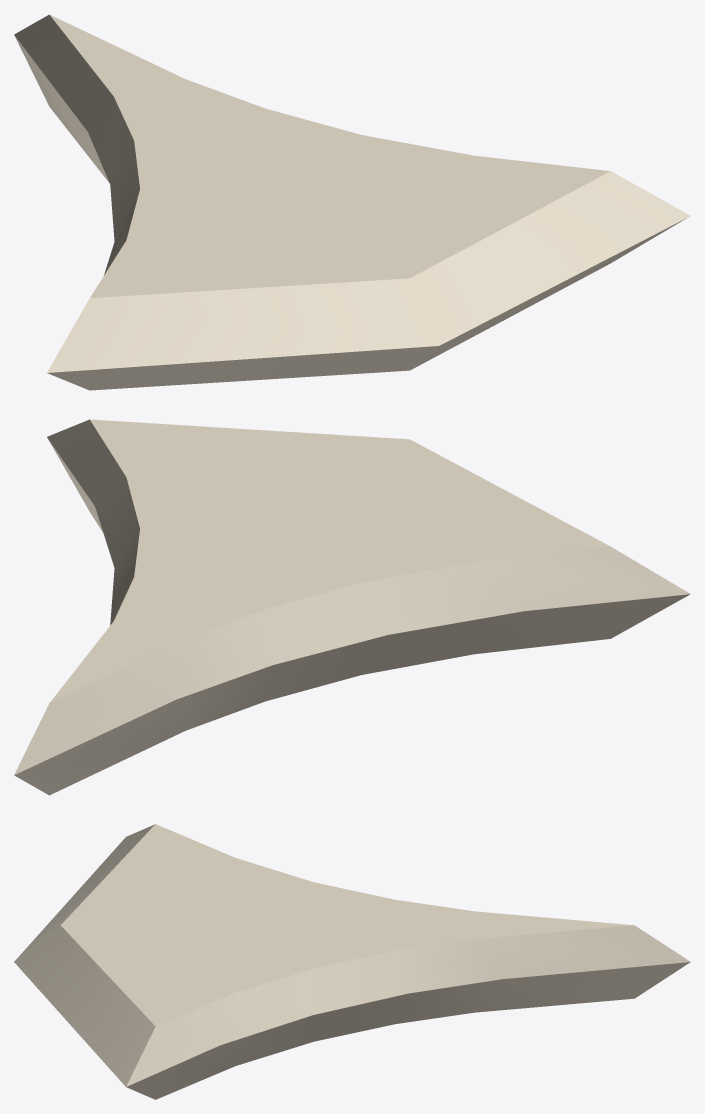
Rendered from projectile.fbx.
3 views of the same model, one above another, from view 1: azimuth 30°, elevation 25°; view 2: azimuth 150°, elevation 25°; view 3: azimuth 270°, elevation 25° (orthographic). The views are drawn at different scales.
Visible parts, largest first — view 1: Cube; view 2: Cube; view 3: Cube.
Part boxes in pixels (bbox=[...]): Cube: bbox=[14, 14, 690, 390]; Cube: bbox=[14, 419, 690, 795]; Cube: bbox=[14, 824, 690, 1099].
Size of the model in its own units: 247 by 33.83 by 283.
